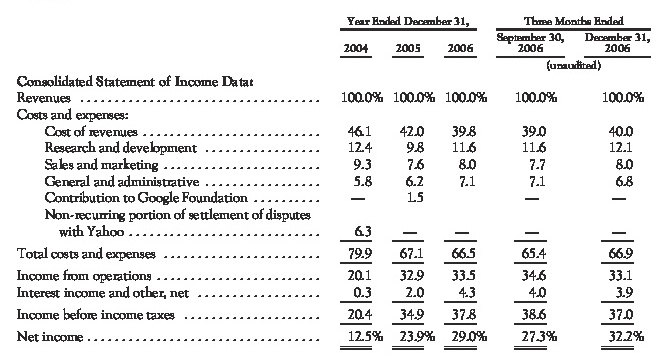table: (0, 0, 664, 363)
